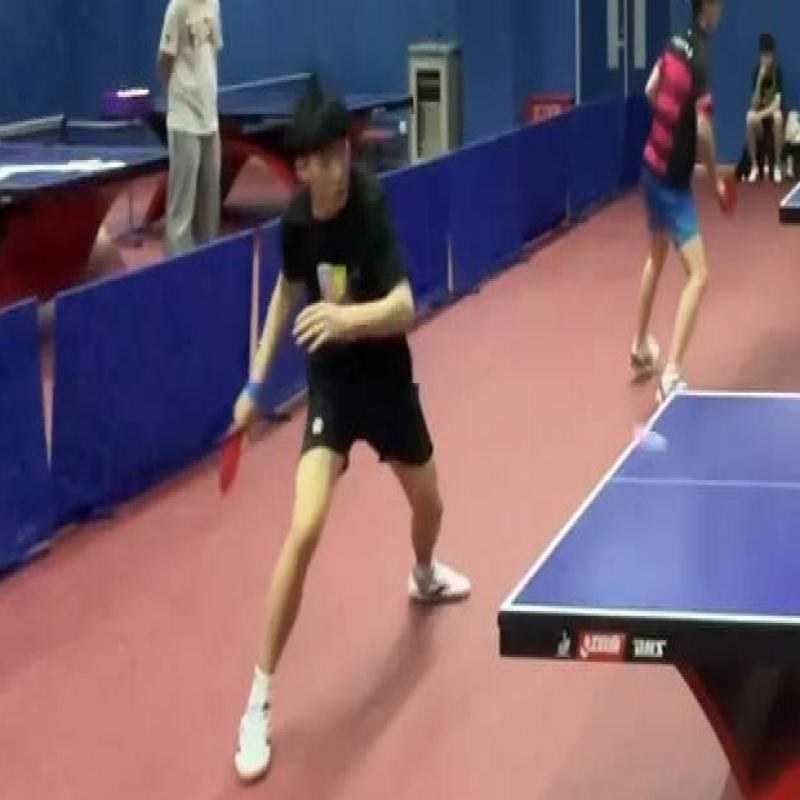bats: (206, 410, 256, 504)
